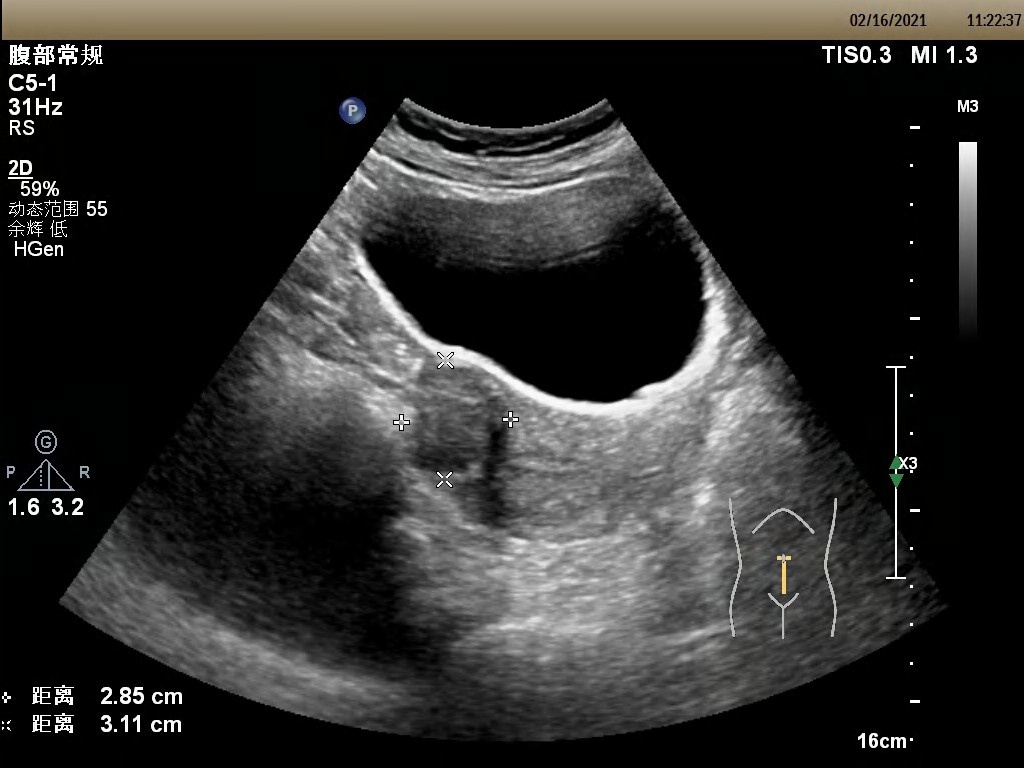肌瘤: (422, 368, 500, 466)
